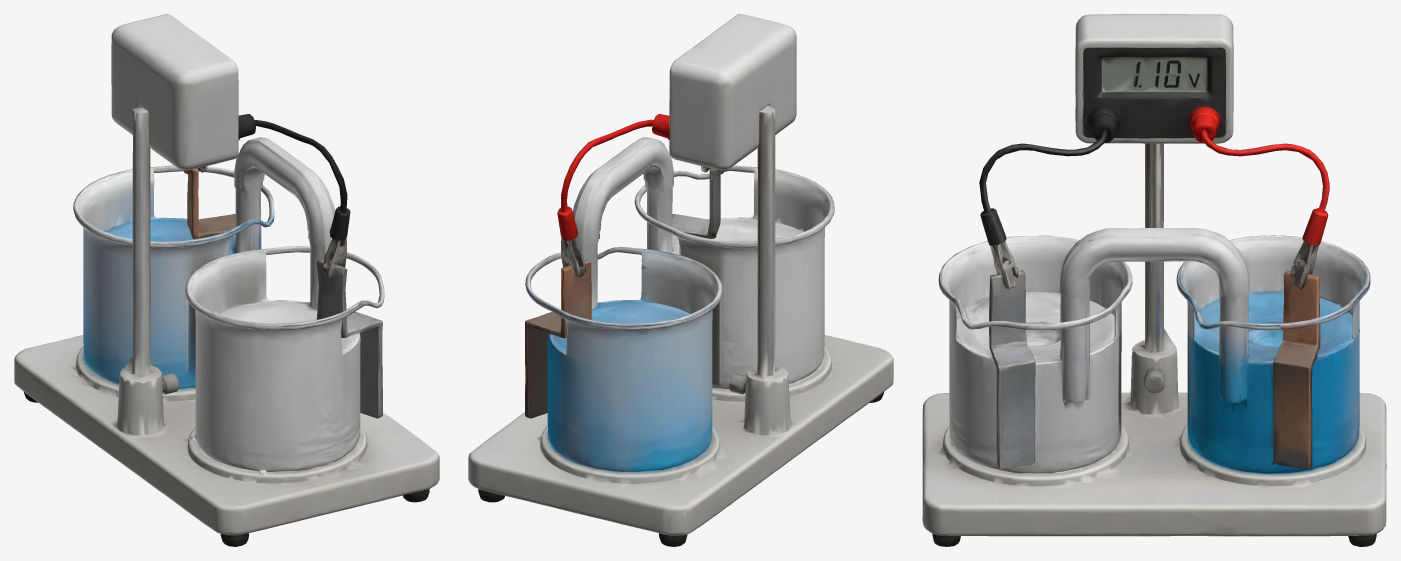
The model's file is daniell-cell.glb.
3 renders of one model, left to right at view 1: azimuth 30°, elevation 25°; view 2: azimuth 150°, elevation 25°; view 3: azimuth 270°, elevation 25°, orthographic. The views are drawn at different scales.
Parts seen in each view (by area): view 1: daniell-cell; view 2: daniell-cell; view 3: daniell-cell.
Boxes of the visible parts, x1,y1,x2,y2 form: daniell-cell: (14, 14, 439, 546); daniell-cell: (468, 14, 893, 546); daniell-cell: (922, 14, 1386, 546).
Bounding box in the file's own units: 0.2521 × 0.45 × 0.4262.
Materials: 1 (1 with a texture image).
